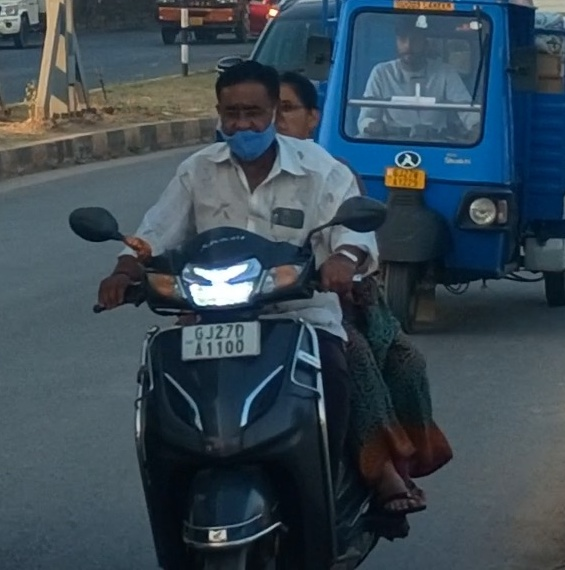BikeWithRider: (60, 54, 462, 570)
NoHelmet: (204, 55, 287, 162), (266, 64, 326, 144)
